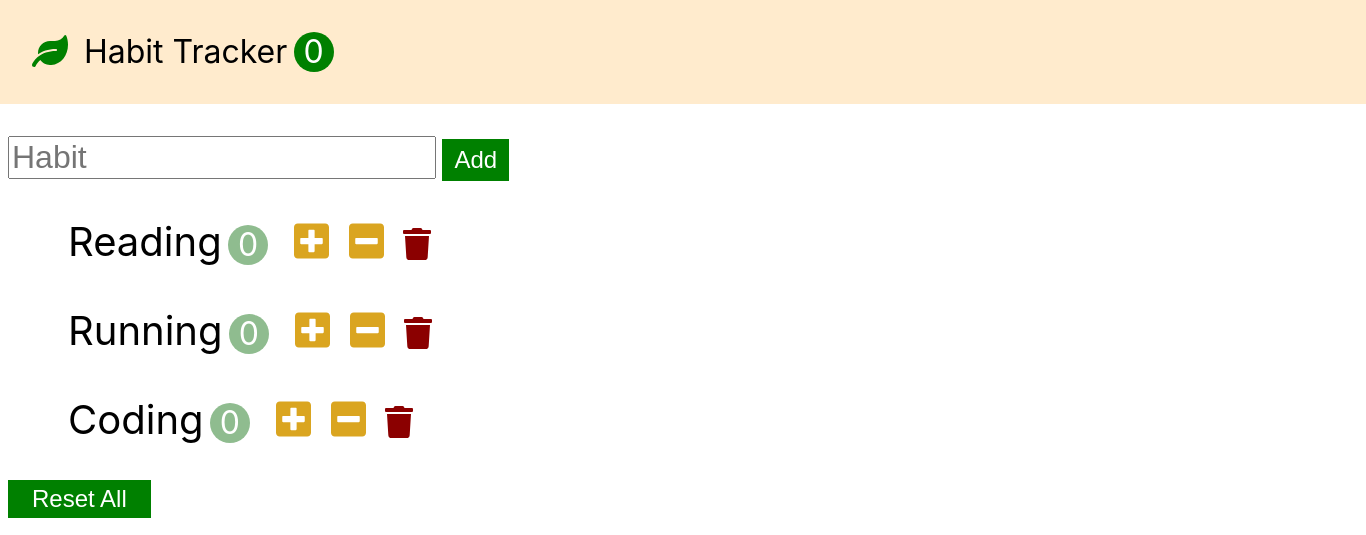
Test: 해빗 트래커 › 헤더에서는 활동 중인 습관들의 카운트를 보여줘야 한다.
Click the button titled "increase" in the row of "Reading". click: (312, 243)
box: top-left (288, 219), bottom-right (335, 266)
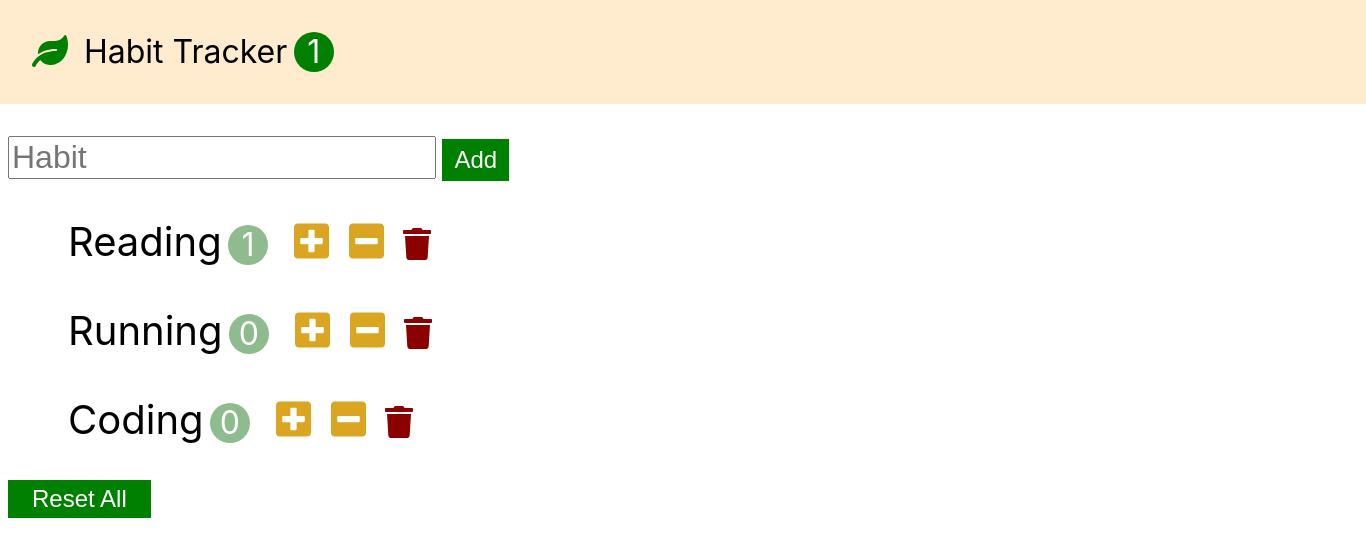
Click the button titled "increase" in the row of "Coding". click: (294, 421)
box: top-left (270, 397), bottom-right (317, 444)
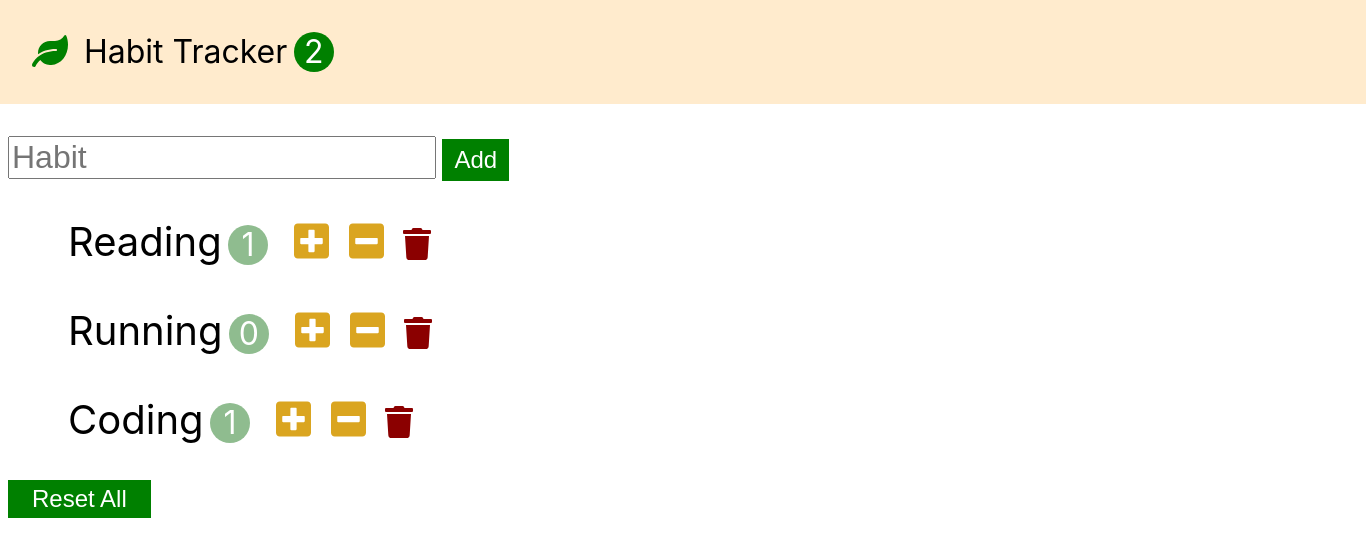
Expected: the text with test id "total-count" reads "2", top-left (294, 32), bottom-right (334, 72)
